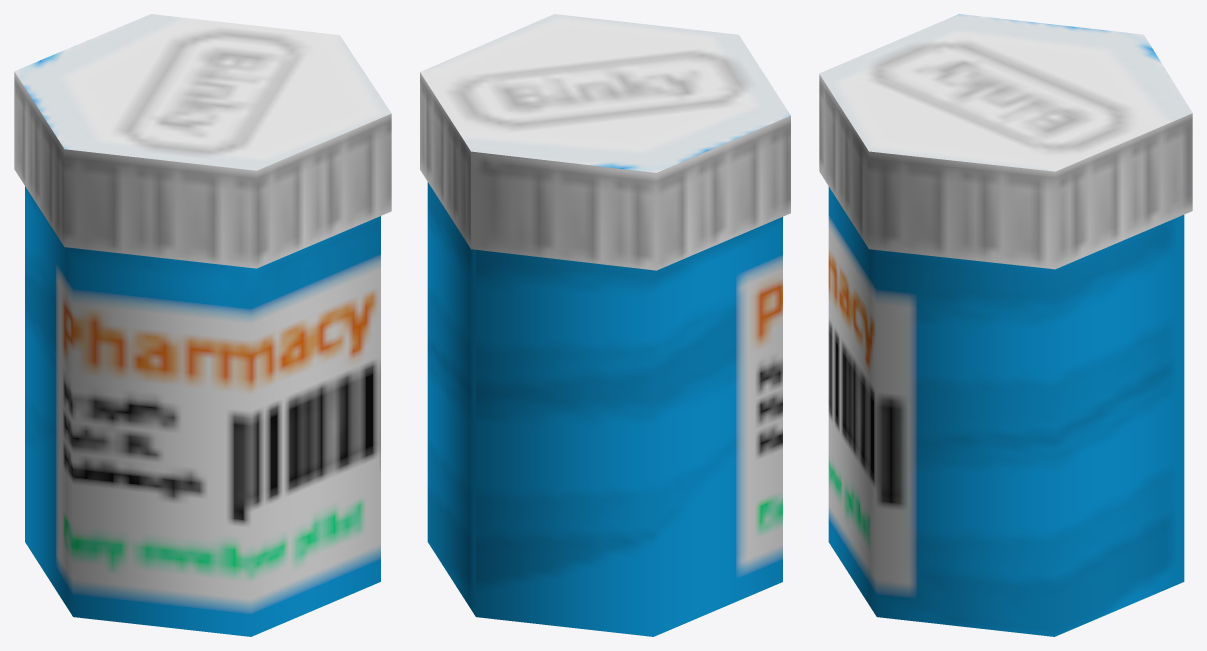
File: PillBottle.fbx
3 renders of one model, left to right at view 1: azimuth 30°, elevation 25°; view 2: azimuth 150°, elevation 25°; view 3: azimuth 270°, elevation 25°, orthographic.
Parts seen in each view (by area): view 1: PillBottle; view 2: PillBottle; view 3: PillBottle.
Boxes of the visible parts, bbox=[...] form: PillBottle: bbox=[14, 14, 391, 636]; PillBottle: bbox=[420, 14, 790, 636]; PillBottle: bbox=[819, 14, 1192, 636].
Size of the model in its own units: 0.0497 by 0.0689 by 0.0498.
